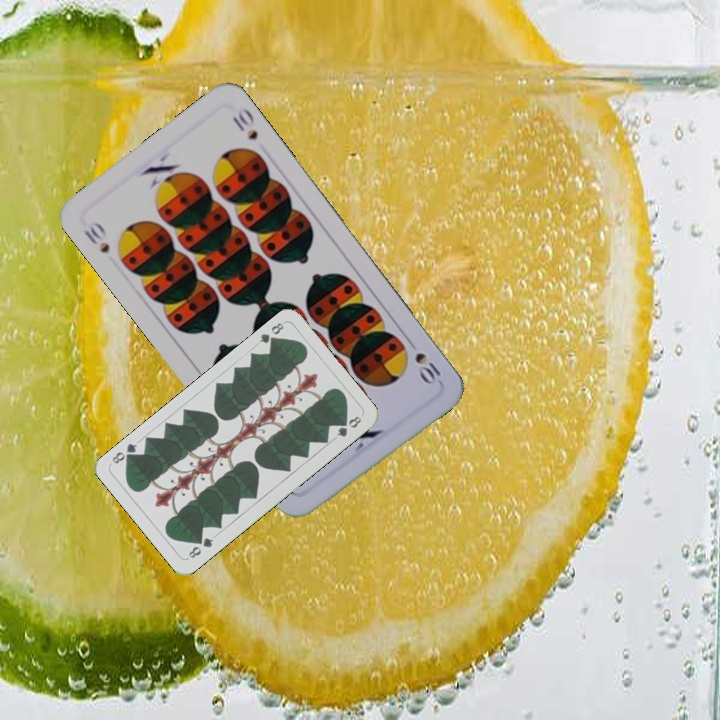G8: (255, 318, 286, 348), (183, 533, 216, 561)
S10: (403, 336, 444, 387), (79, 217, 112, 256)
